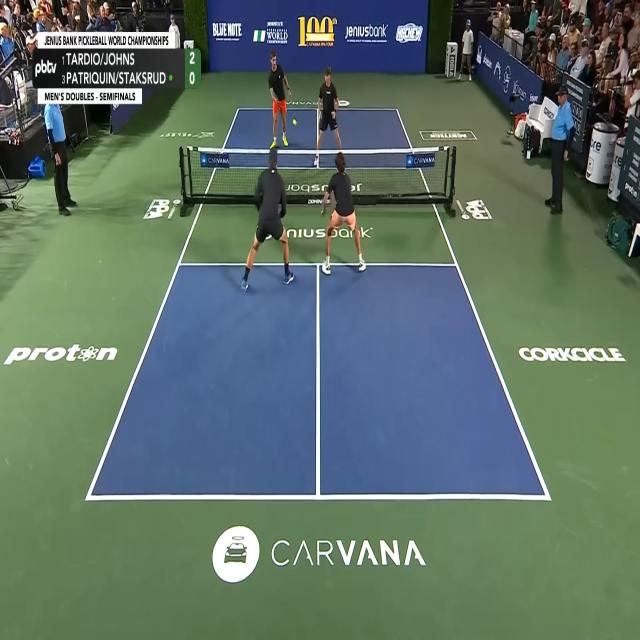ball: (292, 118, 298, 127)
